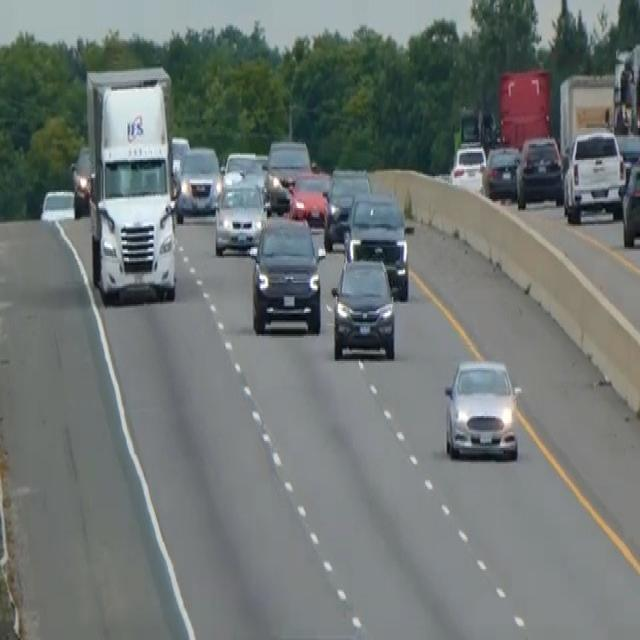car: (248, 213, 324, 336), (443, 356, 522, 462), (343, 190, 410, 299), (330, 254, 396, 361), (562, 126, 624, 222), (213, 176, 267, 256), (323, 165, 371, 249), (515, 133, 564, 208), (176, 142, 222, 219), (287, 169, 330, 226), (482, 142, 521, 201), (266, 137, 311, 188), (617, 155, 639, 247), (449, 139, 486, 192), (69, 144, 92, 217), (223, 149, 267, 185), (39, 187, 76, 222), (169, 133, 190, 178)
lorry: (83, 62, 179, 304)
